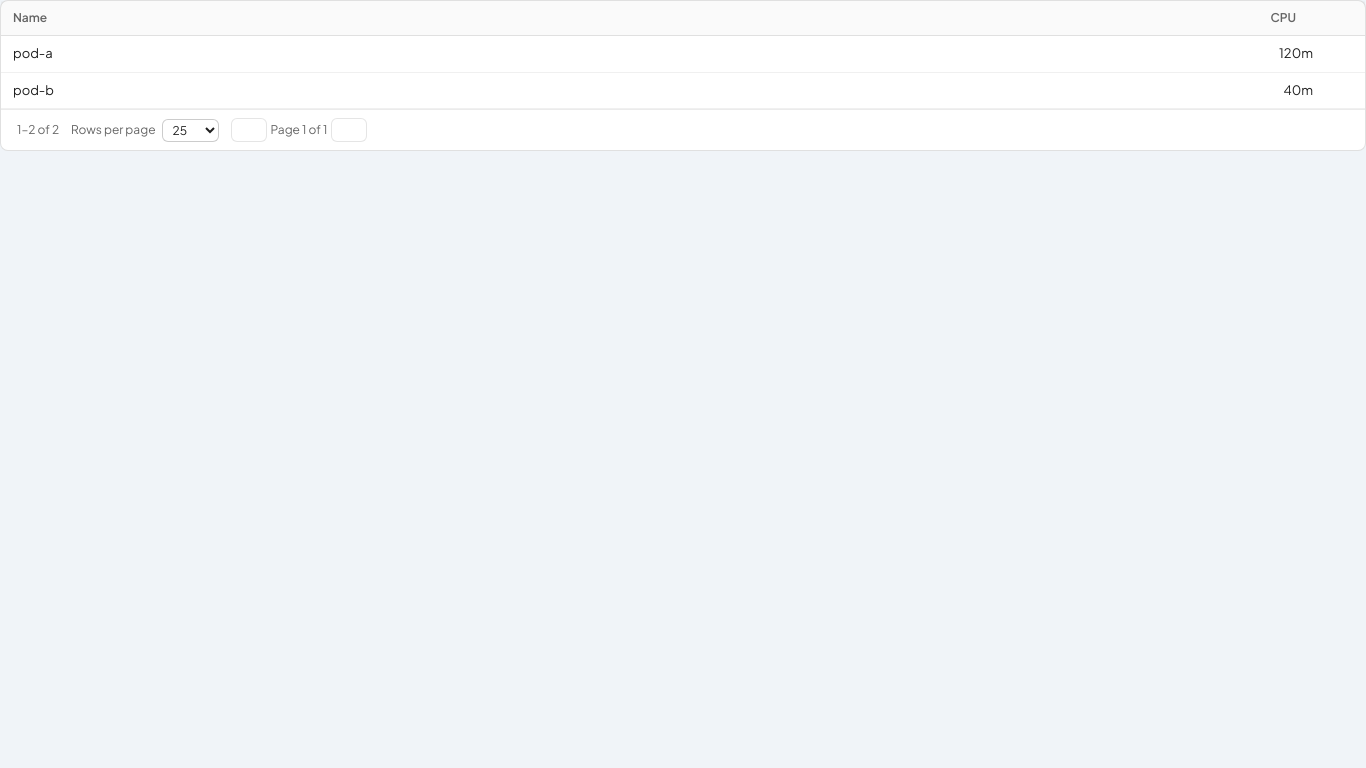
Scenario: DataTable (FEAT-001) › opens a DetailDrawer from a row activation
The image size is (1366, 768).
Click the button "pod-a 120m" at point(33, 53), box [1,36,1365,72]
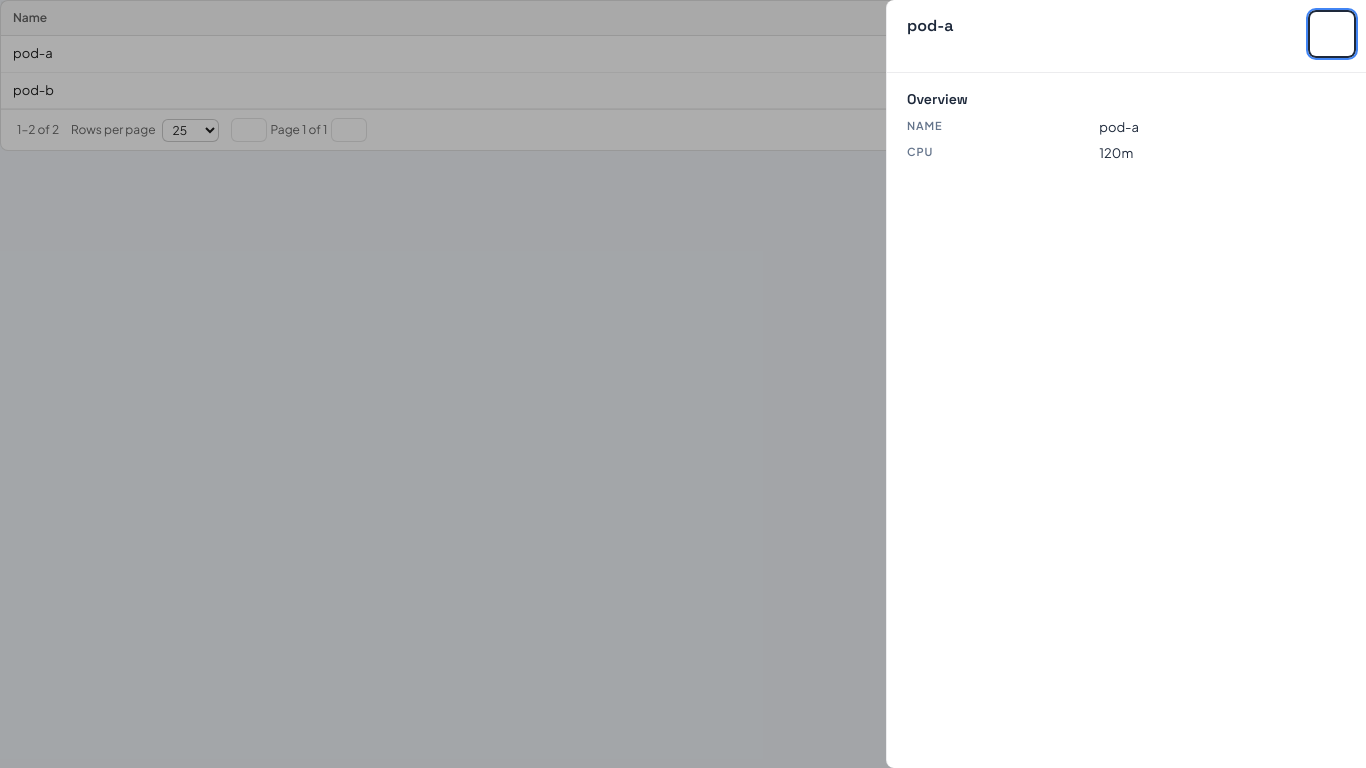
Expected: the heading "Overview" is shown, [907,90,968,108]
